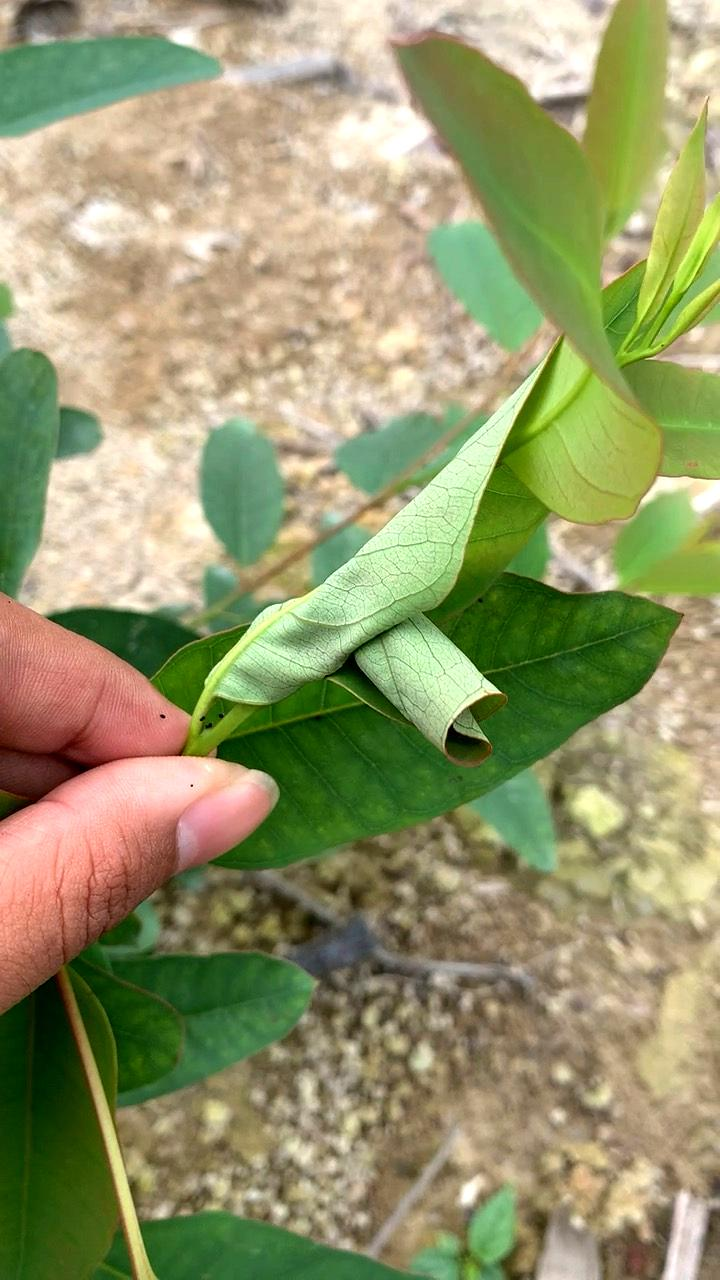Leaf Roller - Leaf: (255, 523, 531, 804)
